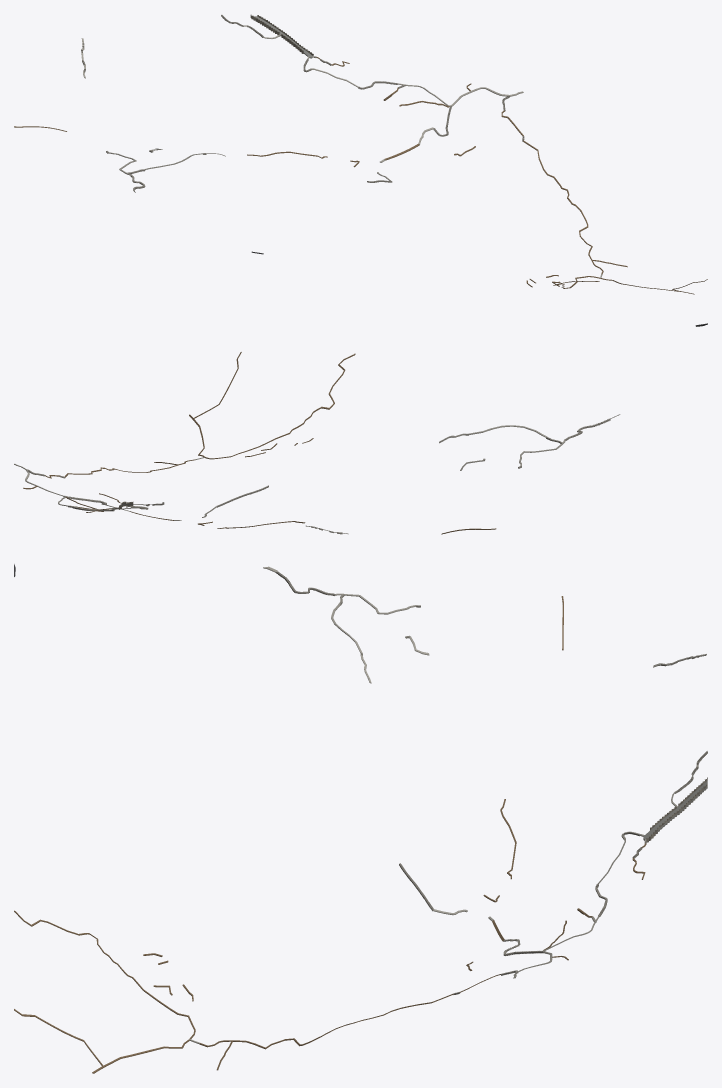
File: 16-54727-29741.95685dbf.glb
3 views of the same model, one above another, from view 1: azimuth 30°, elevation 25°; view 2: azimuth 150°, elevation 25°; view 3: azimuth 270°, elevation 25° (orthographic). The views are drawn at different scales.
Bounding box in the file's own units: 587 × 215 × 584.
